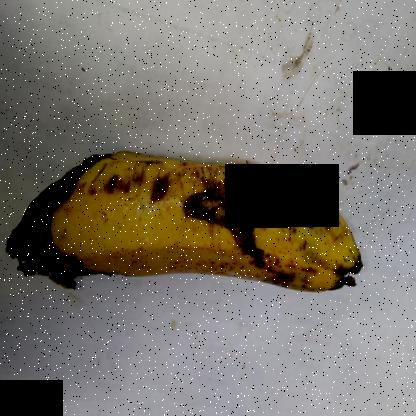rotten: (154, 134, 376, 319), (0, 122, 121, 324)
